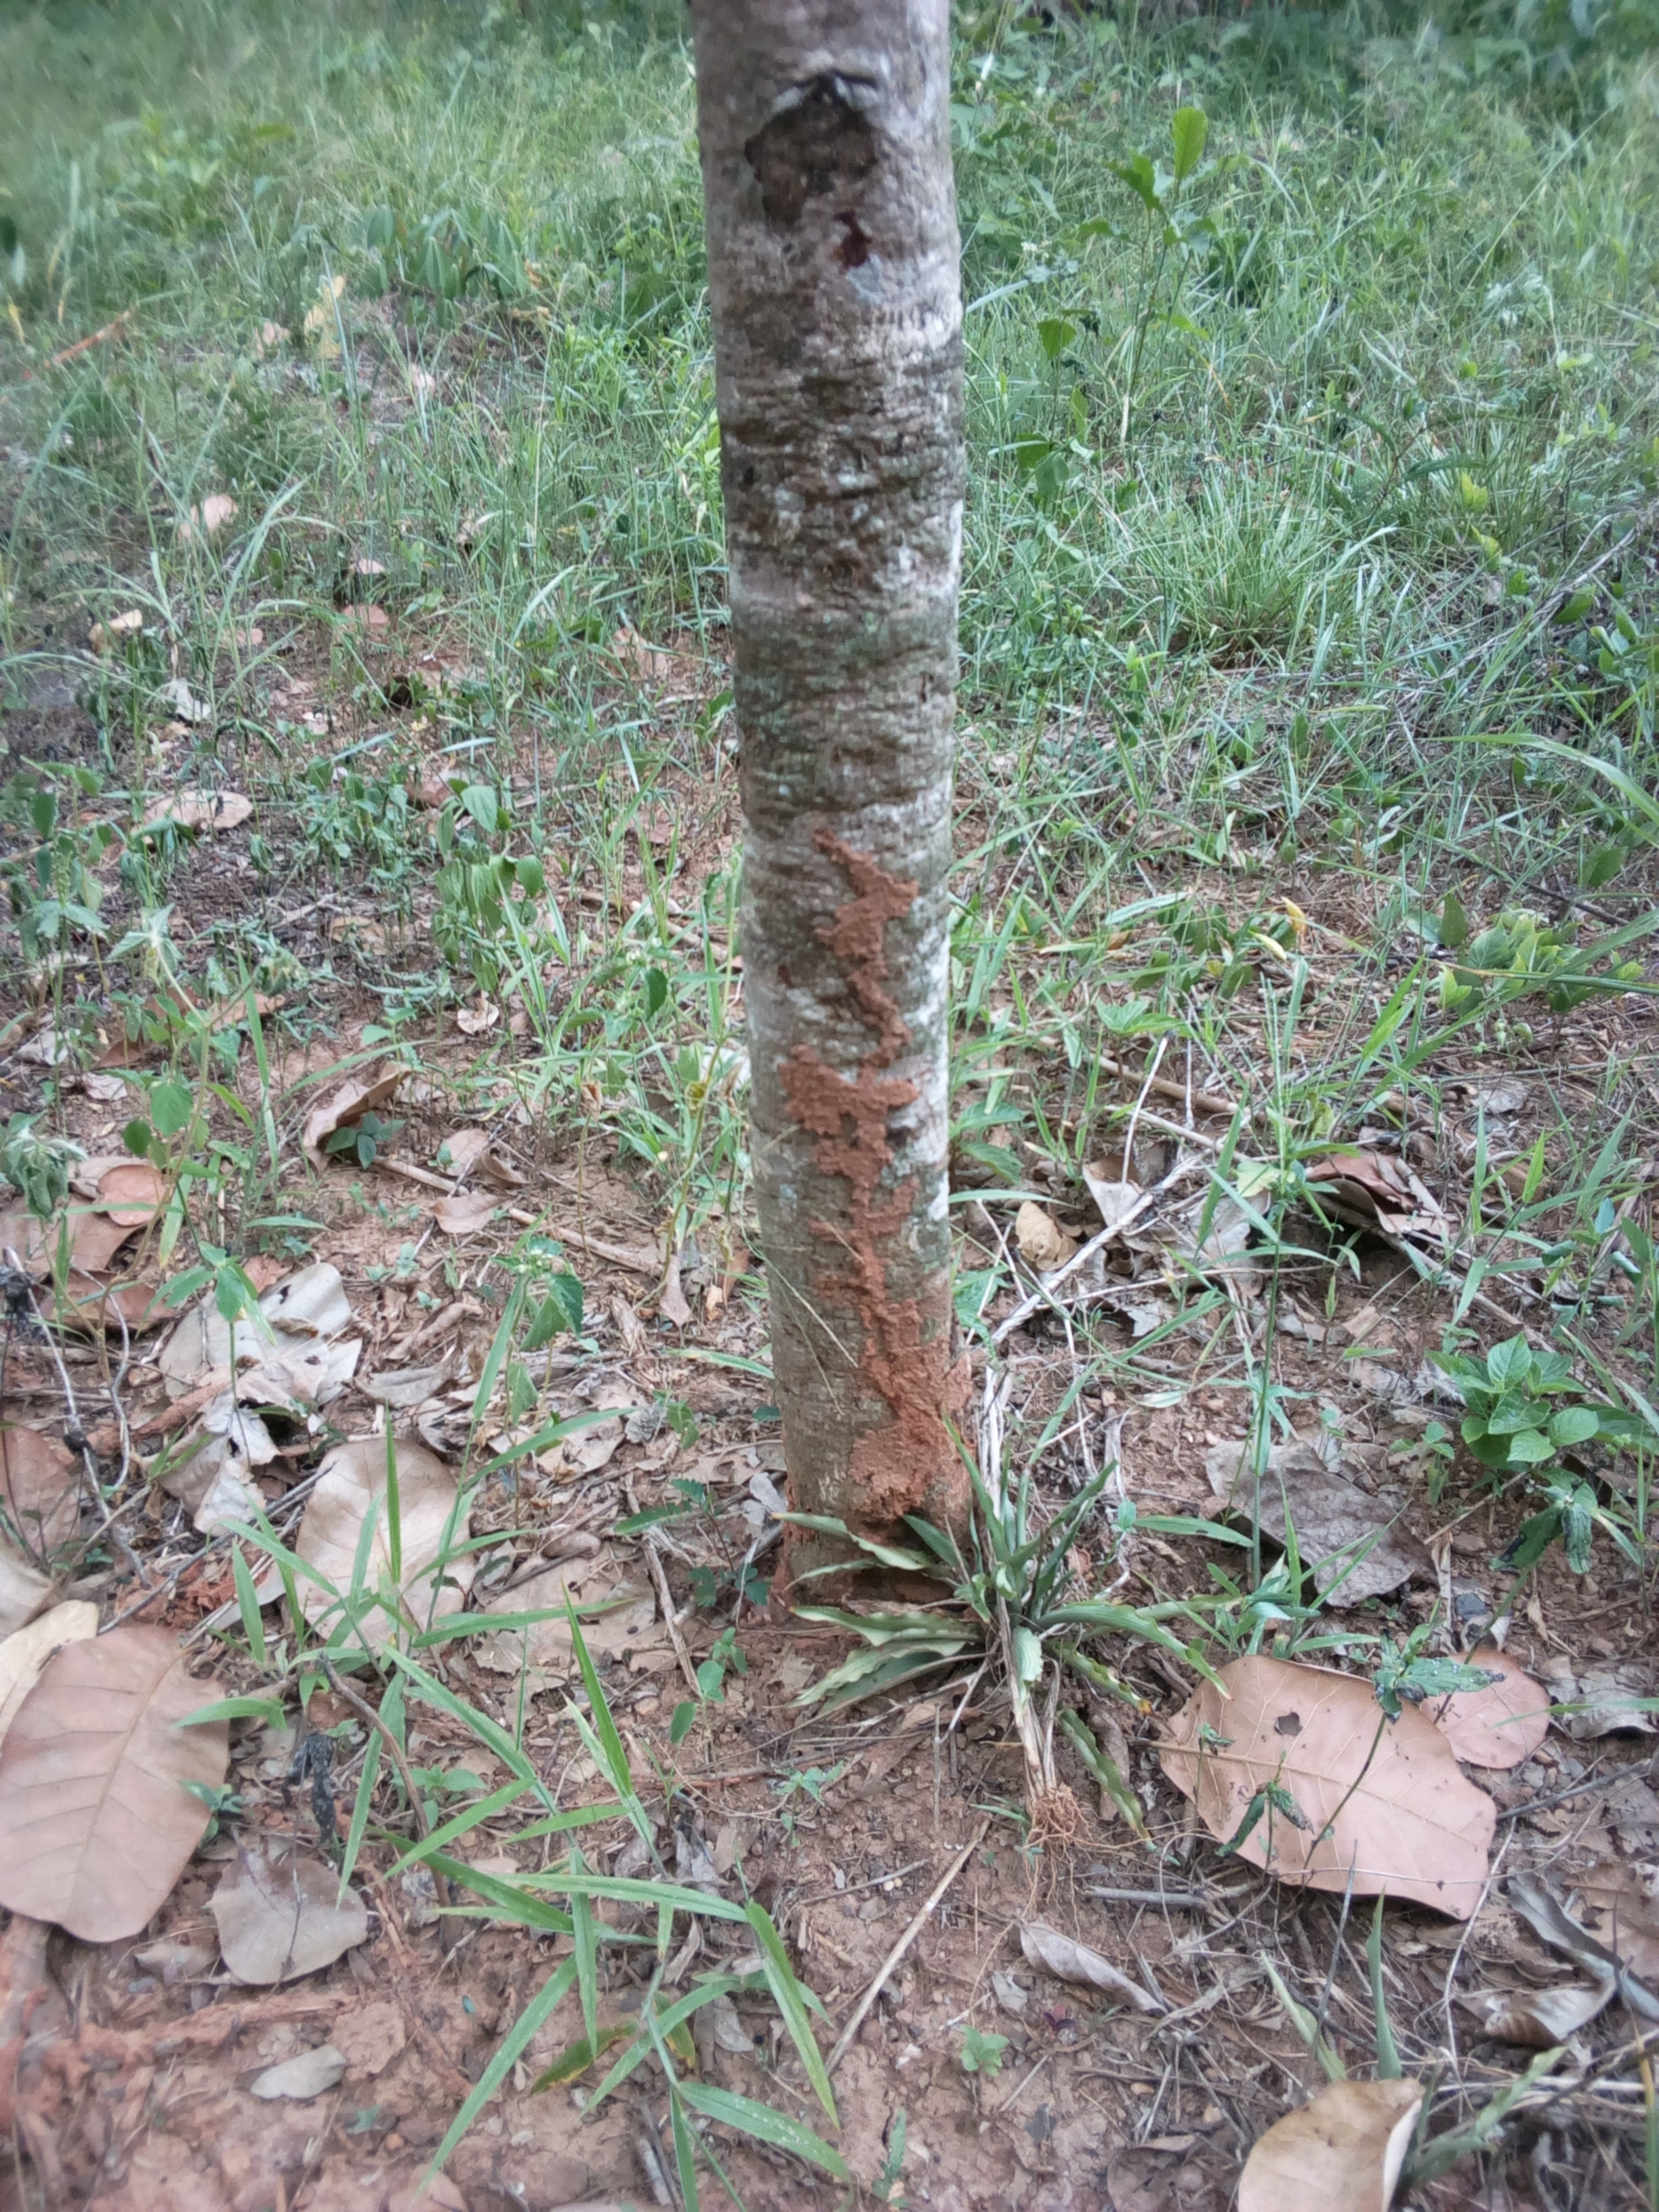Termites: (793, 834, 962, 1503)
